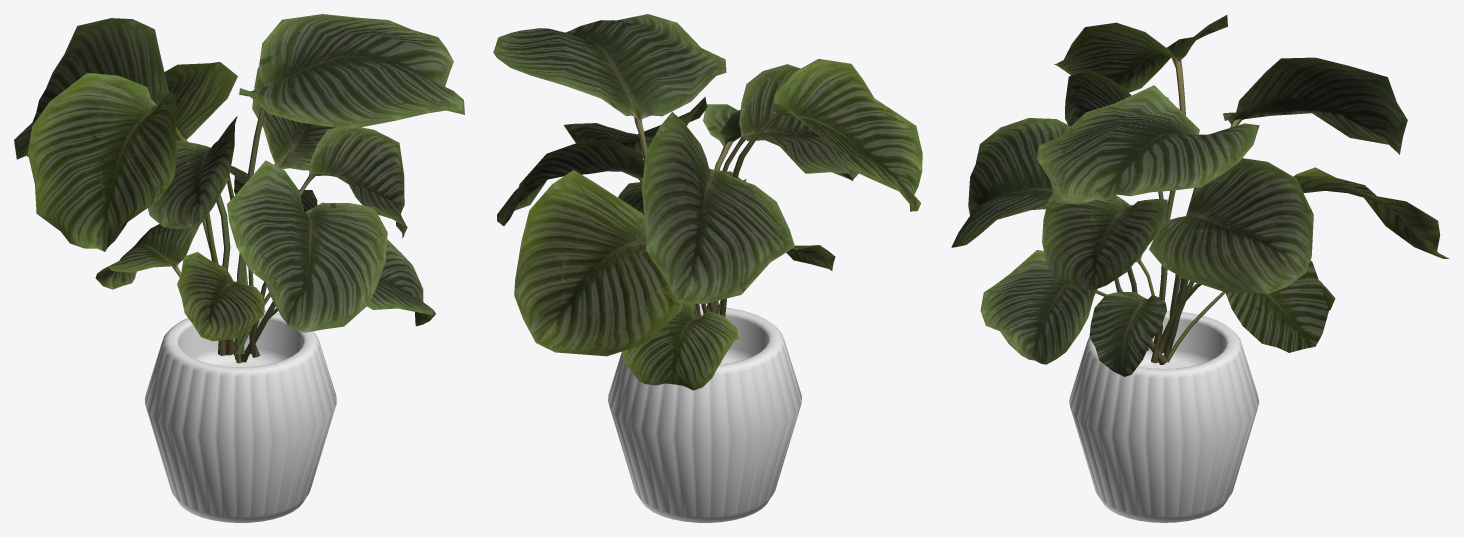
The model's file is monstera_2.dae.
3 renders of one model, left to right at view 1: azimuth 30°, elevation 25°; view 2: azimuth 150°, elevation 25°; view 3: azimuth 270°, elevation 25°, orthographic. The views are drawn at different scales.
Parts seen in each view (by area): view 1: calathea Leaves, Ceramic pot; view 2: calathea Leaves, Ceramic pot; view 3: calathea Leaves, Ceramic pot.
Part boxes in pixels (bbox=[...]): calathea Leaves: bbox=[14, 14, 464, 363]; Ceramic pot: bbox=[144, 310, 336, 522]; calathea Leaves: bbox=[493, 14, 922, 390]; Ceramic pot: bbox=[608, 306, 801, 522]; calathea Leaves: bbox=[951, 14, 1449, 376]; Ceramic pot: bbox=[1069, 311, 1259, 522].
Size of the model in its own units: 0.9736 by 1.05 by 1.
Materials: 2 (1 with a texture image).
